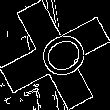O_SW: (22, 24, 88, 86)
